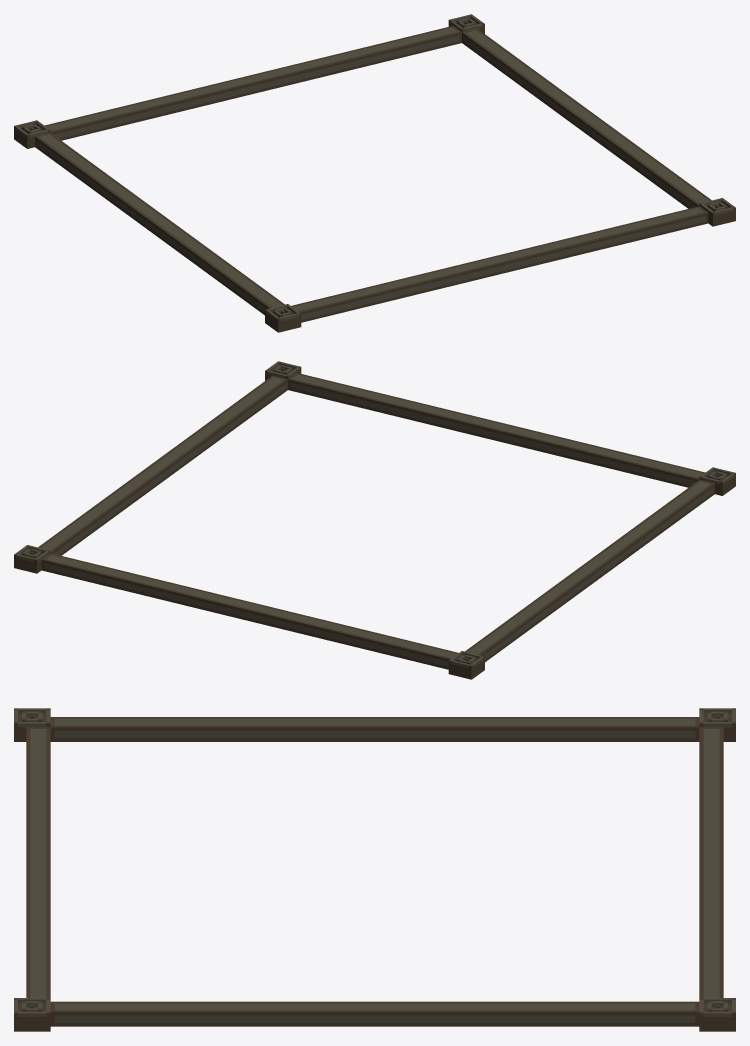
File: map_frame.obj
3 renders of one model, top to bottom at view 1: azimuth 30°, elevation 25°; view 2: azimuth 150°, elevation 25°; view 3: azimuth 270°, elevation 25°, orthographic. The views are drawn at different scales.
Size of the model in its own units: 17.8 by 0.5 by 17.8.
Materials: 1 (1 with a texture image).
